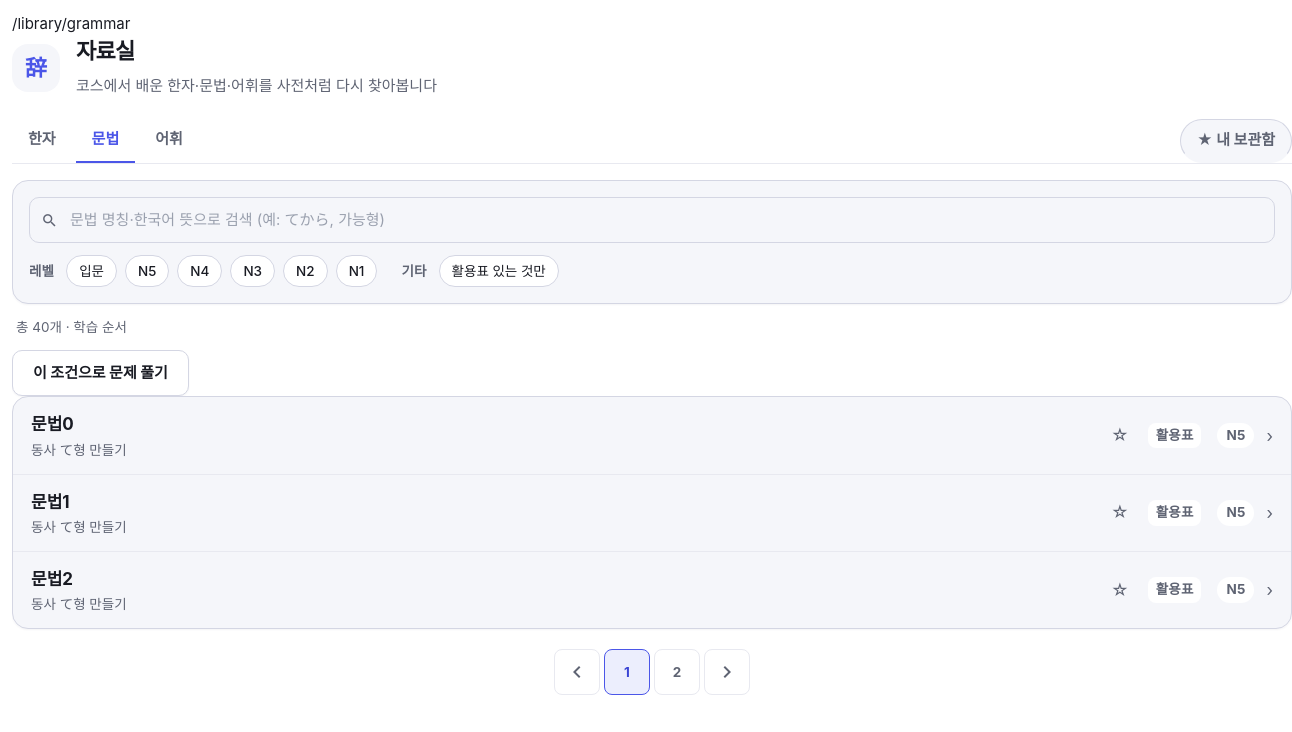
Test case: 자료실 목록 — 페이지를 바꾸면 스켈레톤이 아니라 기존 목록이 흐려진다 (설계/05 §8) › 2페이지 응답이 오기 전까지 1페이지 행이 그대로 남고 .list-loading 이 붙는다
Expected: the text "문법0" is shown, [31,414,74,434]
Click the button "2" at {"x": 677, "y": 672}, box [654,649,700,695]
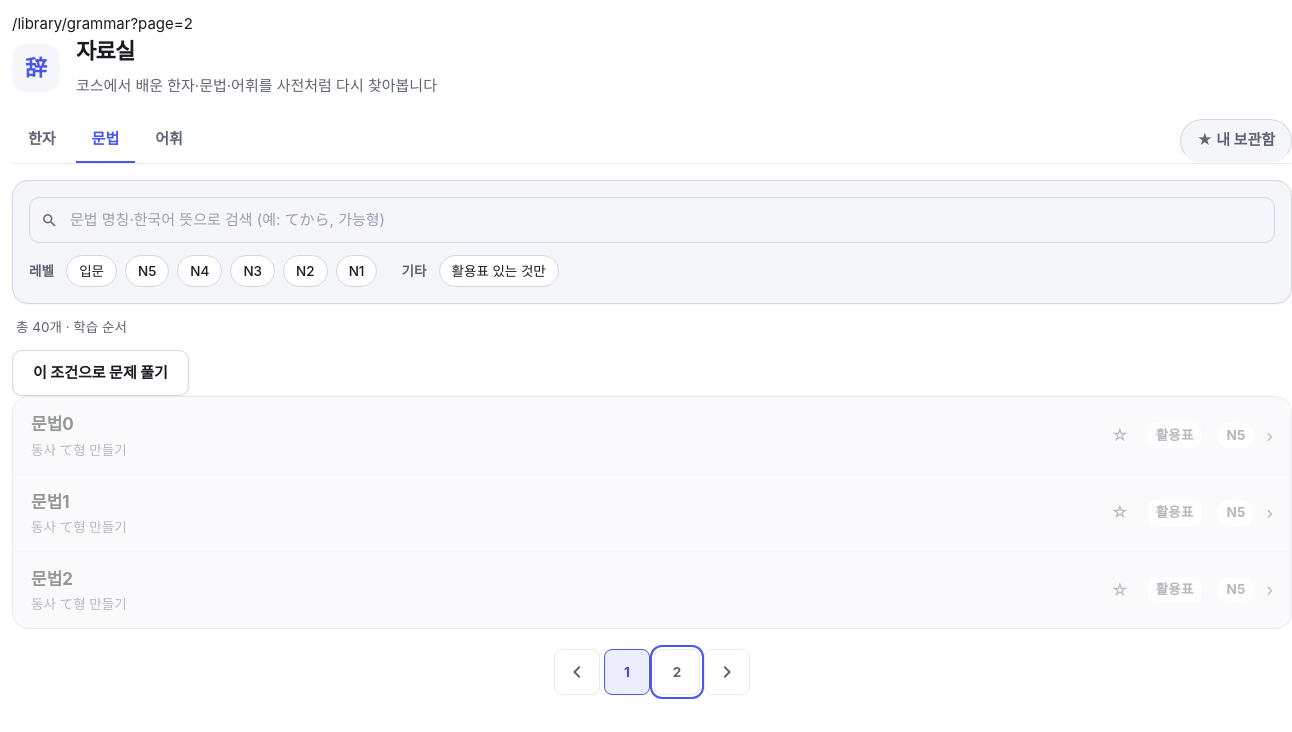
Expected: the text "문법0" is shown, [31,414,74,434]
Expected: the text with test id "location" shows "page=2", [130,14,193,33]
